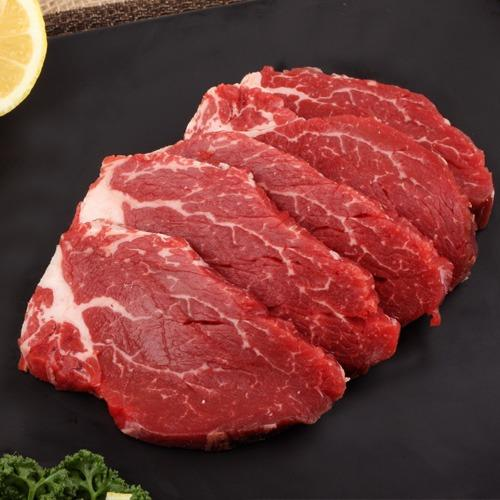beef: (73, 70, 388, 194), (25, 188, 273, 345)
